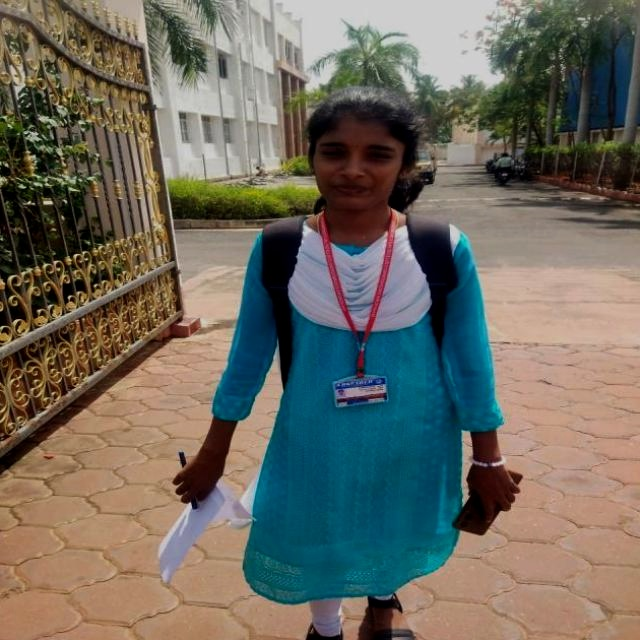ID_card: (327, 226, 397, 403)
